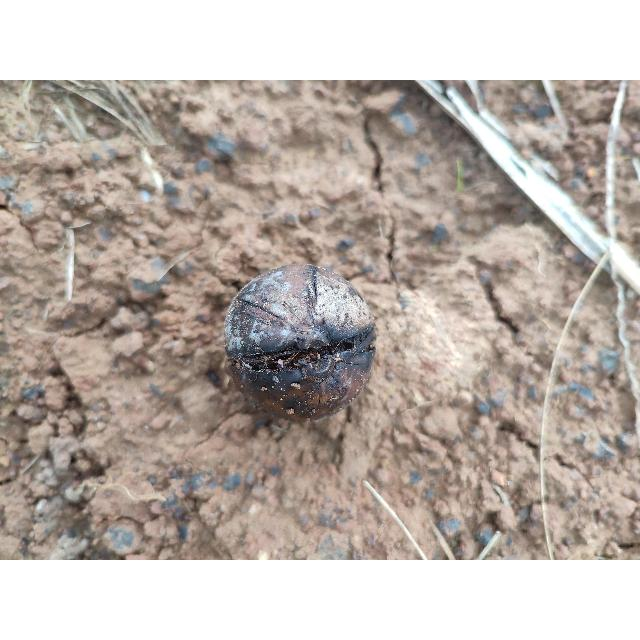damaged: (223, 264, 378, 420)
